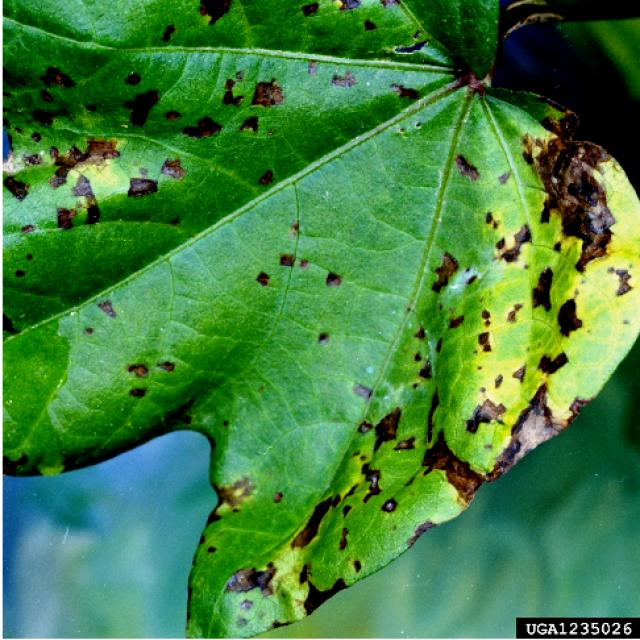Bacterial Blight: (8, 43, 291, 230), (407, 152, 602, 392)
